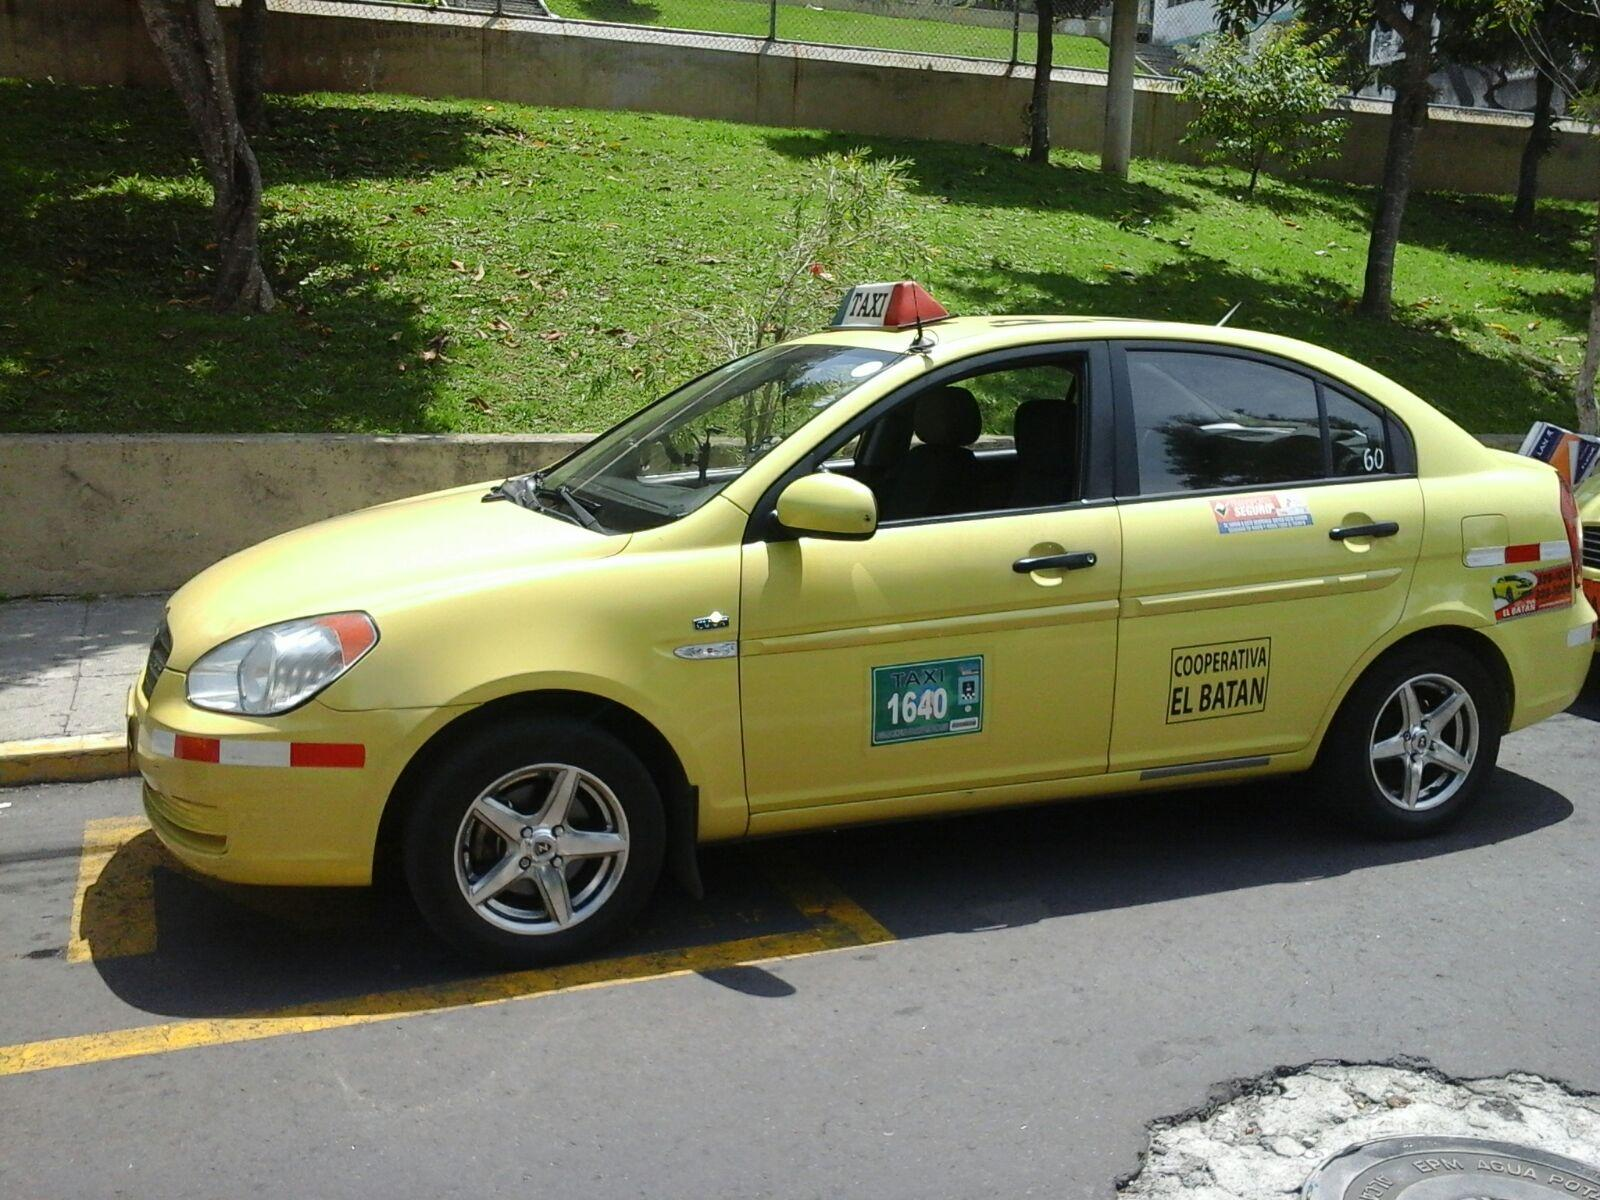taxi: (33, 239, 1600, 948)
